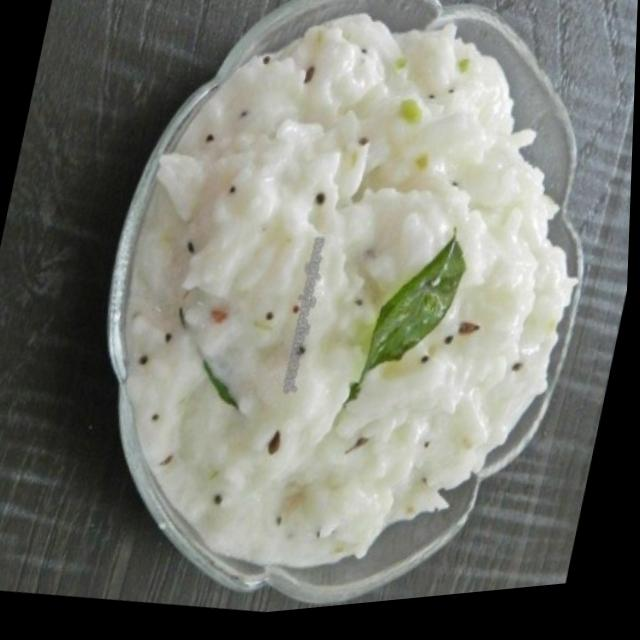CURD RICE: (122, 5, 574, 569)
